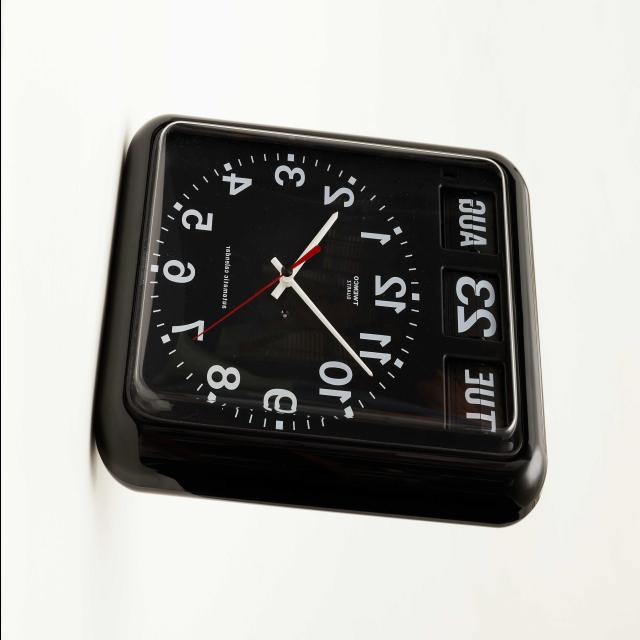clock: (136, 130, 564, 614)
